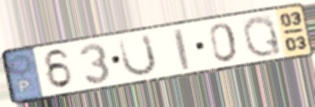0: (208, 21, 239, 63)
3: (78, 40, 113, 86)
6: (43, 48, 74, 91)
I: (170, 26, 192, 72)
Q: (240, 14, 285, 59)
U: (116, 32, 159, 78)
